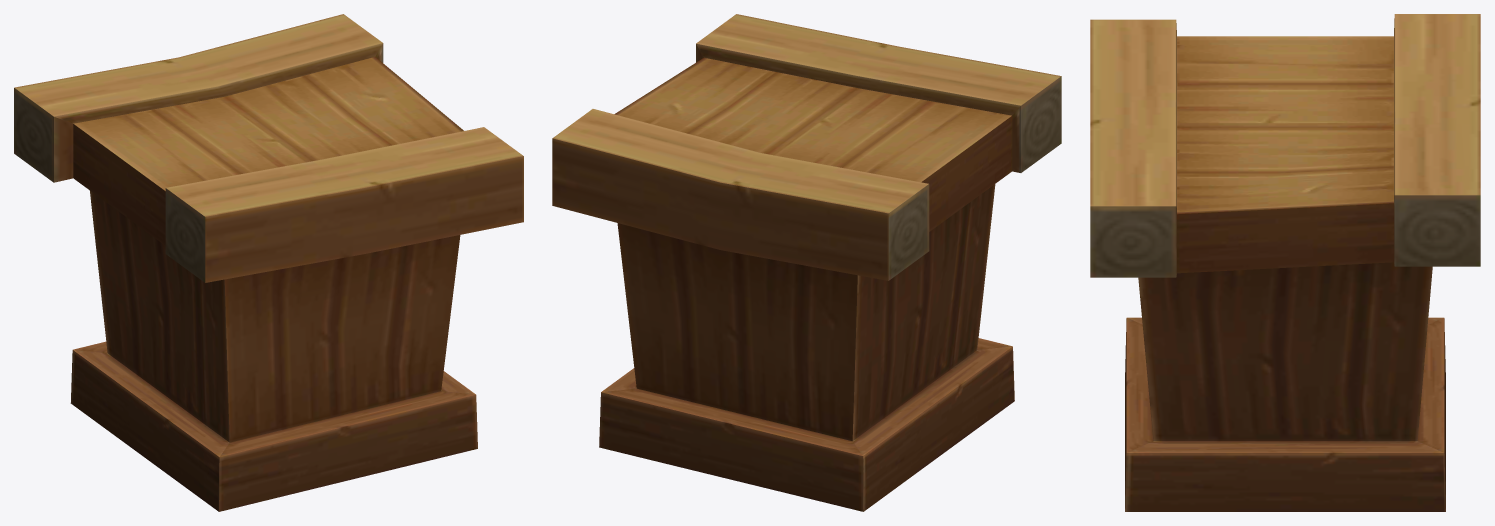
The model's file is ZhuCheng_XiangZi_01.fbx.
The picture shows the model from 3 angles, left to right: view 1: azimuth 30°, elevation 25°; view 2: azimuth 150°, elevation 25°; view 3: azimuth 270°, elevation 25°; orthographic projection. The views are drawn at different scales.
Visible parts, largest first — view 1: ZhuCheng_XiangZi_01; view 2: ZhuCheng_XiangZi_01; view 3: ZhuCheng_XiangZi_01.
Part boxes in pixels (box(x1,y1,x2,y2)): ZhuCheng_XiangZi_01: box(14, 14, 523, 511); ZhuCheng_XiangZi_01: box(552, 14, 1061, 511); ZhuCheng_XiangZi_01: box(1090, 14, 1480, 511).
Bounding box in the file's own units: 0.7324 × 0.6672 × 0.6942.
